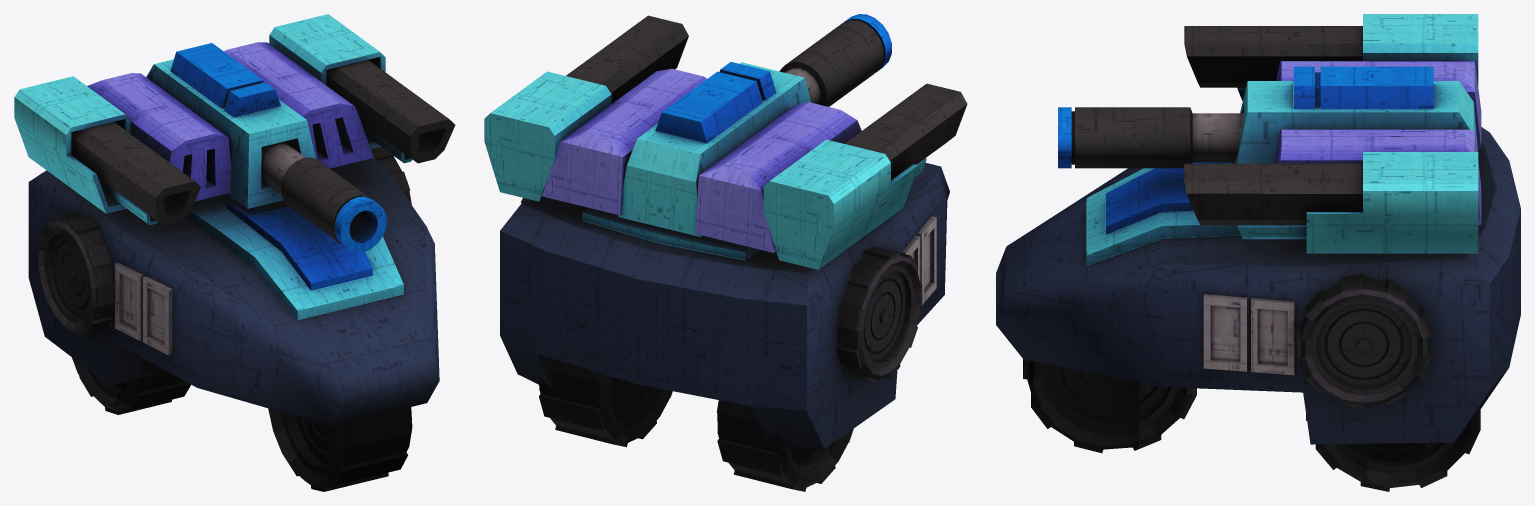
Rendered from PlayerA14.obj.
3 renders of one model, left to right at view 1: azimuth 30°, elevation 25°; view 2: azimuth 150°, elevation 25°; view 3: azimuth 270°, elevation 25°, orthographic. The views are drawn at different scales.
Visible parts, largest first — view 1: Object001, Object002, Object004, Object003; view 2: Object001, Object002, Object003; view 3: Object001, Object002, Object004, Object003.
Boxes of the visible parts, <box> form: Object001: <box>28,42,439,426</box>; Object002: <box>14,14,455,225</box>; Object004: <box>268,407,412,491</box>; Object003: <box>72,357,190,414</box>; Object001: <box>500,14,949,448</box>; Object002: <box>484,15,967,269</box>; Object003: <box>539,359,853,491</box>; Object001: <box>996,61,1520,444</box>; Object002: <box>1184,14,1478,253</box>; Object004: <box>1023,359,1196,453</box>; Object003: <box>1306,410,1480,491</box>.
Size of the model in its own units: 93.13 by 89.88 by 119.
1 material, 1 textured.
